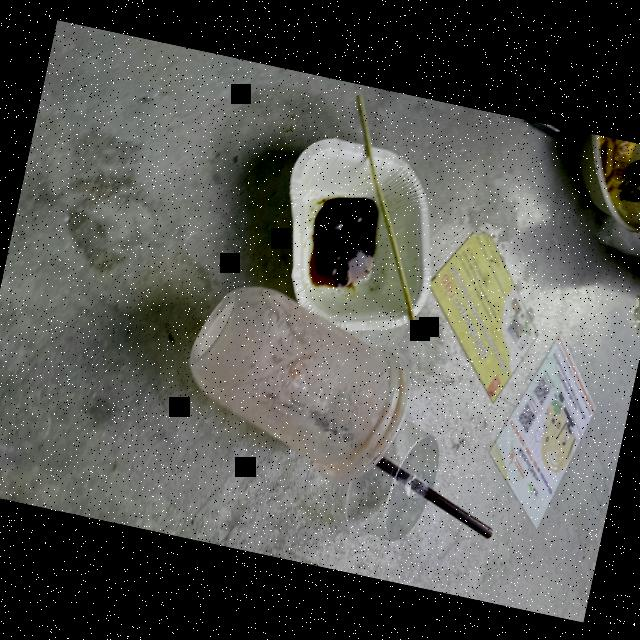cardboard_bowl: (256, 122, 459, 348)
plastic_cup: (166, 268, 430, 494)
plastic_cup_lid: (328, 396, 452, 554)
stick: (302, 87, 468, 340)
straw: (358, 448, 511, 549)
